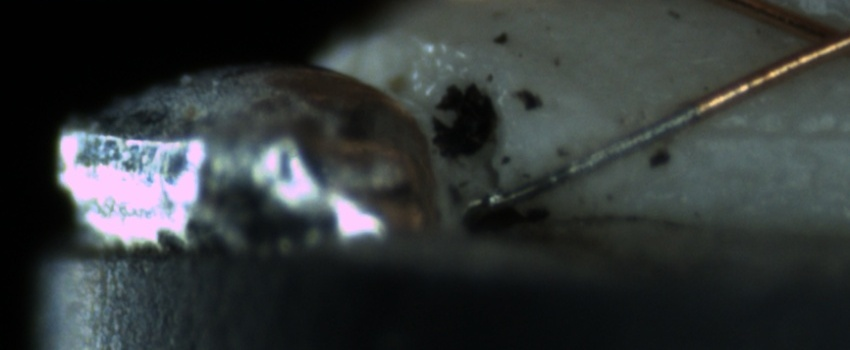CL: (776, 3, 850, 70)
DL: (676, 104, 850, 168)
TS: (466, 101, 700, 216)
